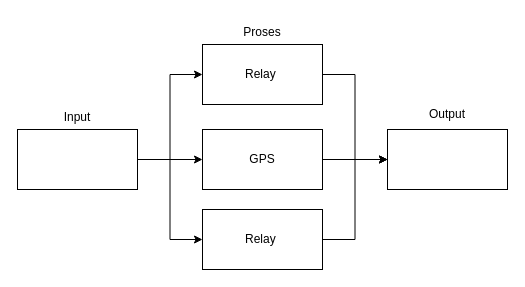
Image size: 525x287. Some labels were removed from this diagram. Here are the shapes that lost their labels. From the top down, the centre of each, then its label:
At (x=77, y=159): "User command".
At (x=447, y=159): "Smartphone & Bycicle".
